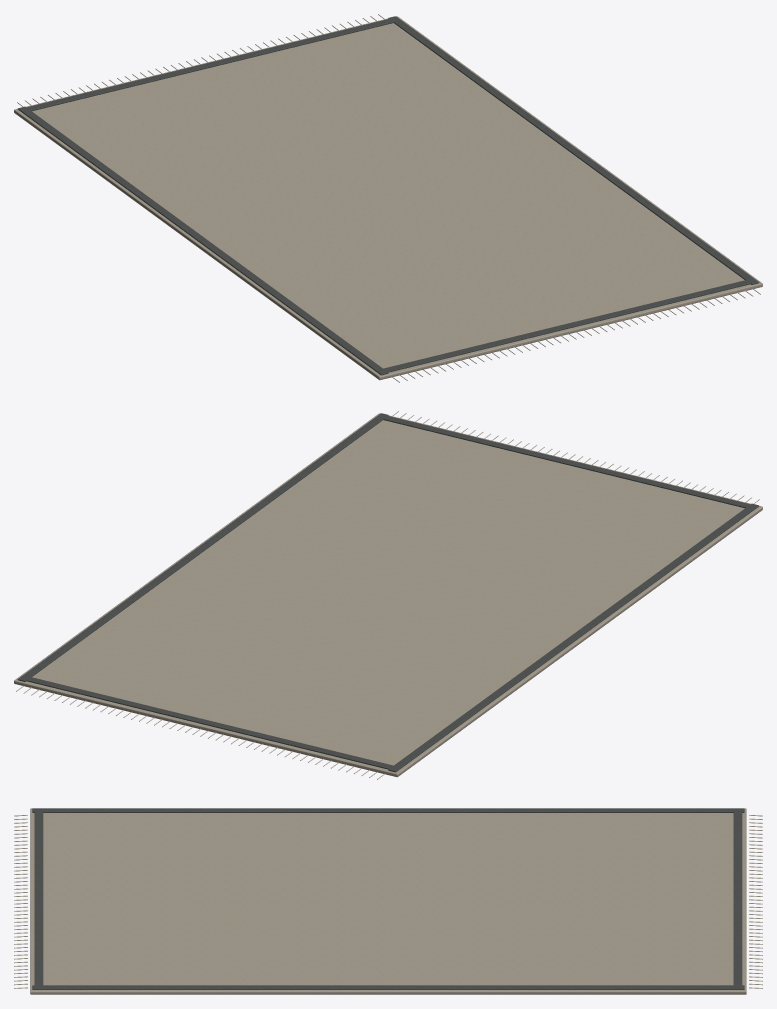
3 renders of one model, top to bottom at view 1: azimuth 30°, elevation 25°; view 2: azimuth 150°, elevation 25°; view 3: azimuth 270°, elevation 25°, orthographic. The views are drawn at different scales.
Visible parts, largest first — view 1: Mesh_linen, Mesh_throw; view 2: Mesh_linen, Mesh_throw; view 3: Mesh_linen, Mesh_throw.
Part boxes in pixels (bbox=[...]): Mesh_linen: bbox=[14, 14, 762, 382]; Mesh_throw: bbox=[18, 16, 759, 375]; Mesh_linen: bbox=[14, 411, 762, 779]; Mesh_throw: bbox=[17, 413, 758, 772]; Mesh_linen: bbox=[14, 808, 762, 994]; Mesh_throw: bbox=[32, 808, 744, 989].
Bounding box in the file's own units: 2 × 0.0245 × 3.45.
2 materials, 2 textured.
